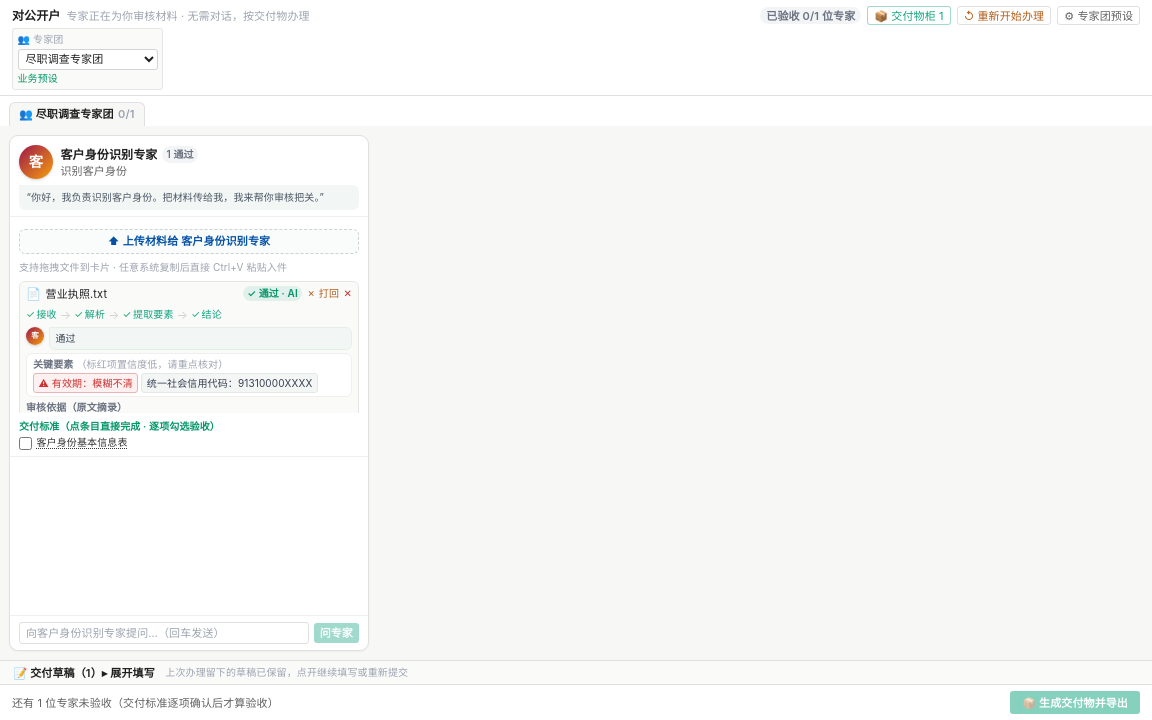
Test case: 交付草稿表单（BUGFIX #78） › 自动预填字段展示「自动预填」徽标供核对（BUGFIX #79）
Click the button "📝 交付草稿（1）▸ 展开填写": (84, 672) top-left (9, 664), bottom-right (159, 681)
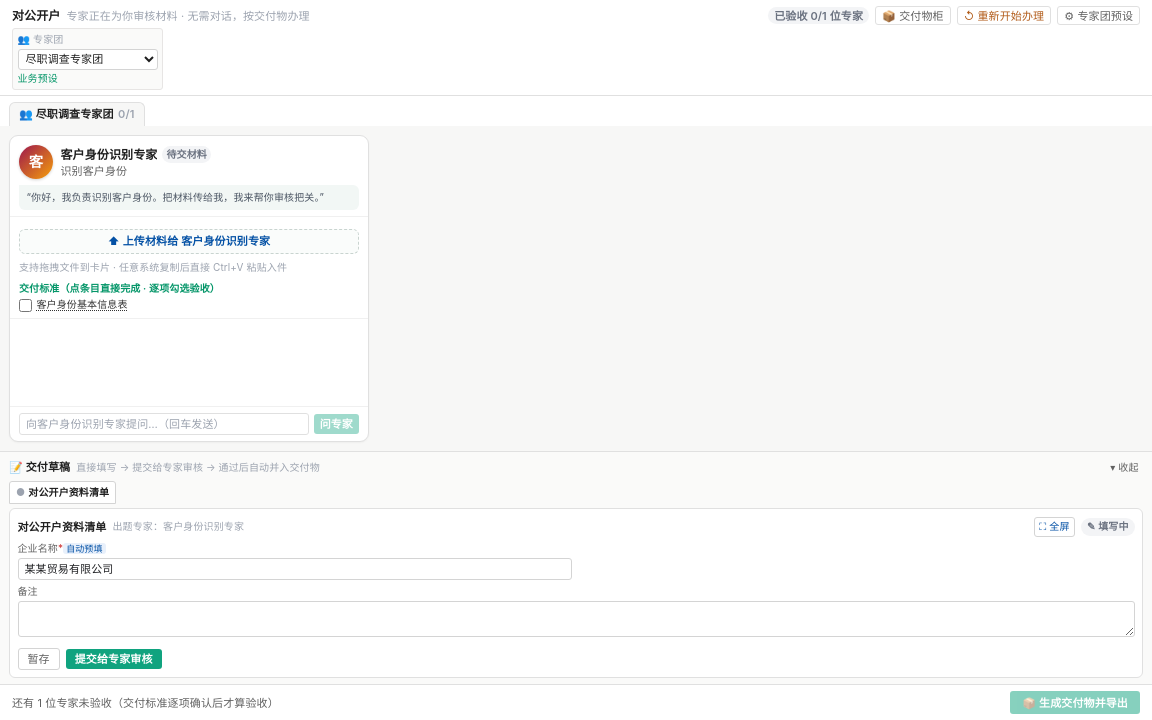
Expected: the text "自动预填" is shown, top-left (63, 543), bottom-right (106, 554)
